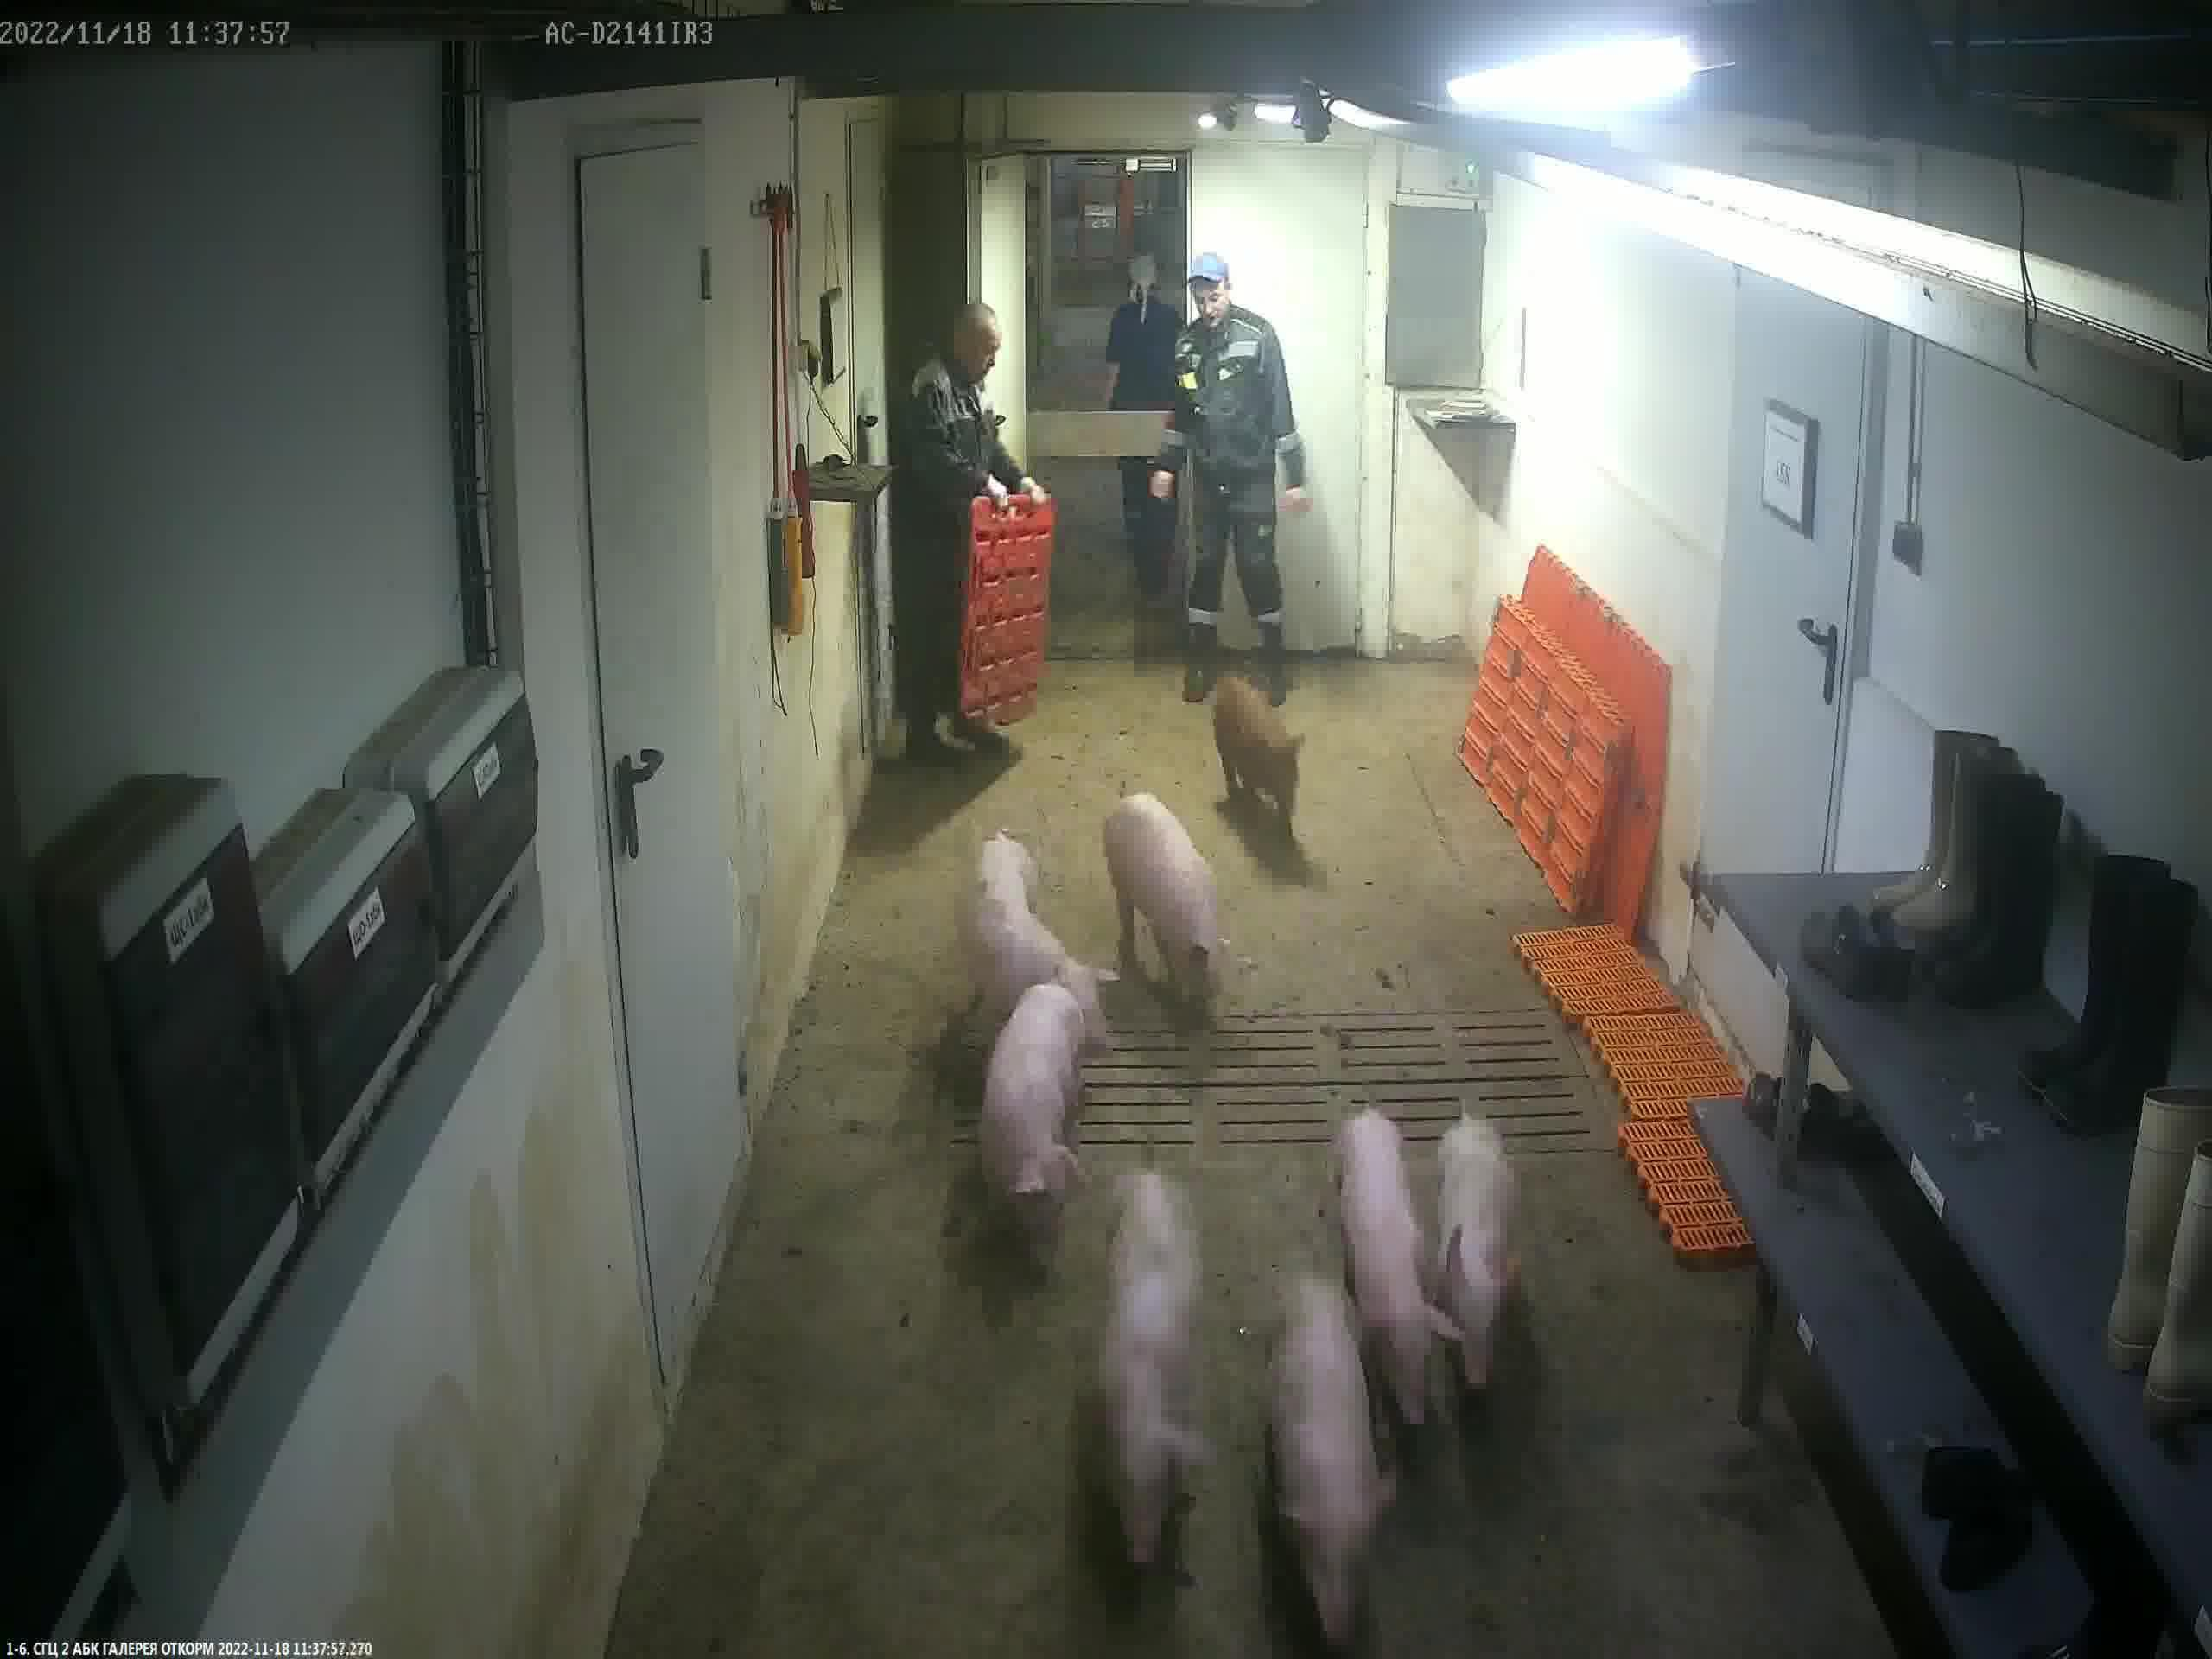Pigs: (1106, 1175, 1217, 1568), (1284, 1283, 1397, 1659), (1341, 1112, 1467, 1427), (968, 842, 1118, 1039), (982, 985, 1080, 1255), (1106, 795, 1231, 1004), (1437, 1121, 1512, 1387), (1216, 674, 1306, 838)
